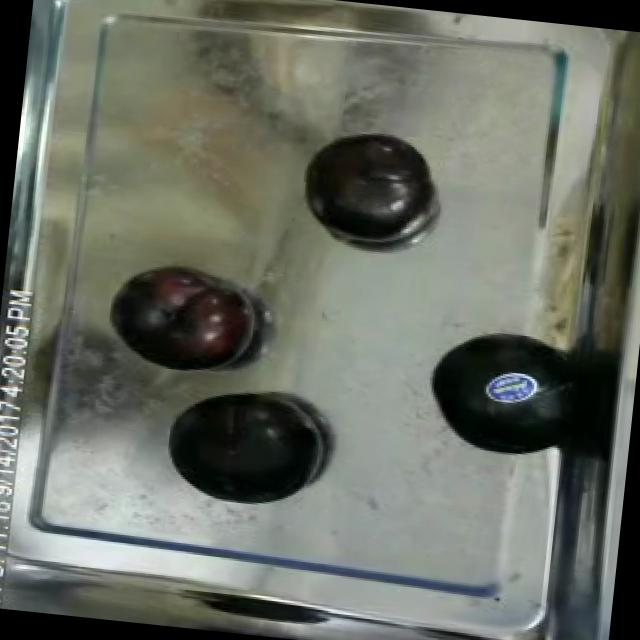Fruit: (154, 378, 332, 517), (101, 254, 268, 382), (296, 122, 436, 248)
